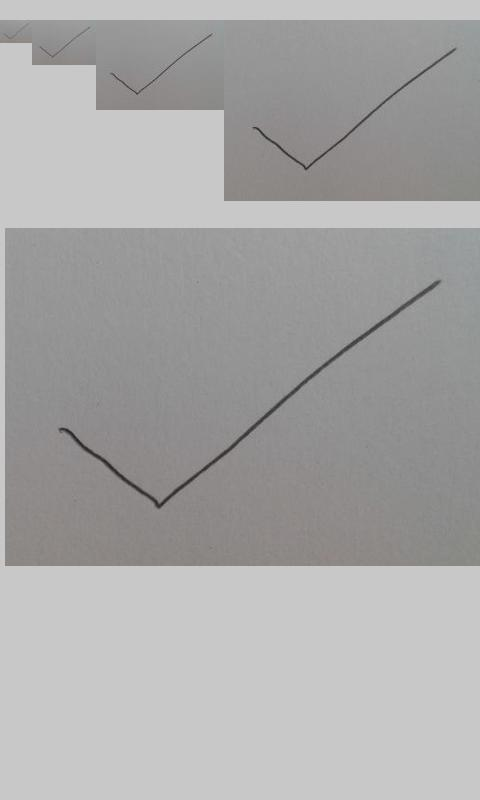check_box: (59, 279, 442, 509), (252, 47, 457, 170), (110, 33, 213, 95), (40, 26, 90, 58), (4, 23, 29, 40)
